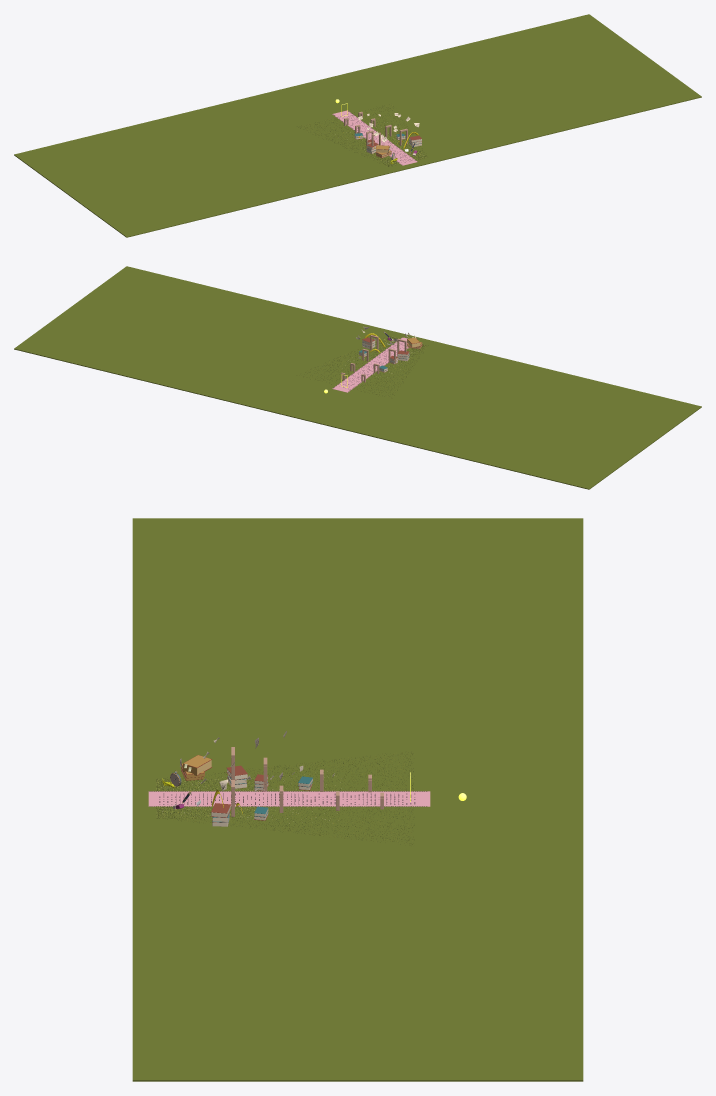
Rendered from chapter1.glb.
The picture shows the model from 3 angles, top to bottom: view 1: azimuth 30°, elevation 25°; view 2: azimuth 150°, elevation 25°; view 3: azimuth 270°, elevation 25°; orthographic projection. The views are drawn at different scales.
Parts seen in each view (by area): view 1: M_Meadow 0, M_Answer sheet | blush lavender paper, M_Warm cream, M_Peach sandstone; view 2: M_Meadow 0, M_Answer sheet | blush lavender paper, M_Peach sandstone, M_Warm cream; view 3: M_Meadow 0, M_Answer sheet | blush lavender paper, M_Warm cream, M_Peach sandstone, M_Warm black ink.
Boxes of the visible parts, x1,y1,x2,y2 form: M_Meadow 0: (14,14,701,237); M_Answer sheet | blush lavender paper: (332,110,417,165); M_Warm cream: (354,113,421,155); M_Peach sandstone: (344,111,407,145); M_Meadow 0: (14,266,701,489); M_Answer sheet | blush lavender paper: (332,337,408,392); M_Peach sandstone: (341,335,406,382); M_Warm cream: (356,326,416,372); M_Meadow 0: (132,518,583,1081); M_Answer sheet | blush lavender paper: (148,791,430,806); M_Warm cream: (161,731,334,826); M_Peach sandstone: (231,747,383,816); M_Warm black ink: (149,741,426,810).
Bounding box in the file's own units: 330 × 14.9 × 112.
